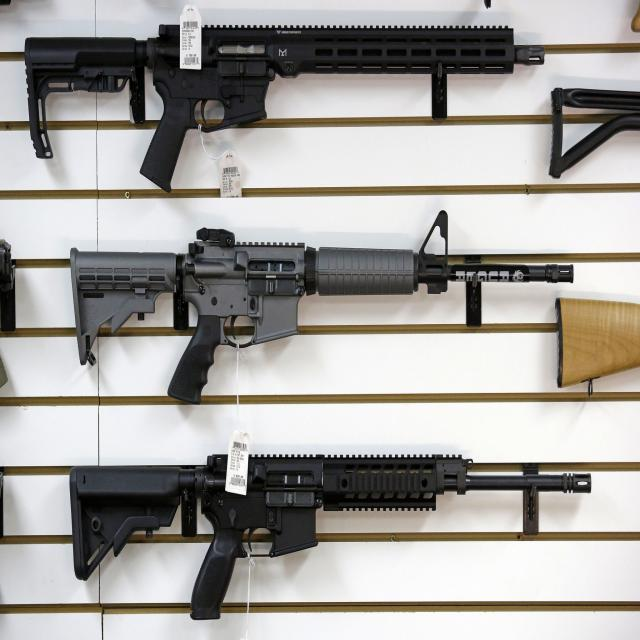rifle: (22, 9, 558, 210), (58, 442, 609, 622), (46, 216, 579, 397)
